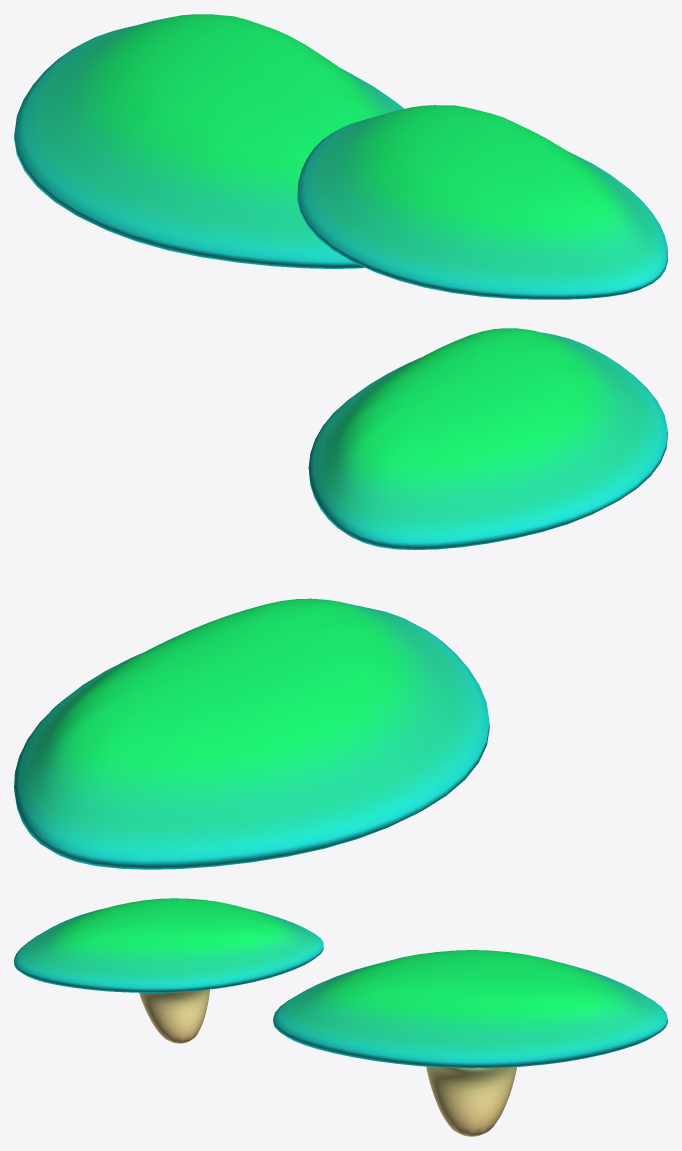
The model's file is WallMushrooms2.fbx.
3 views of the same model, one above another, from view 1: azimuth 30°, elevation 25°; view 2: azimuth 150°, elevation 25°; view 3: azimuth 270°, elevation 25° (orthographic). The views are drawn at different scales.
Parts seen in each view (by area): view 1: MushroomCap.004, MushroomCap.005; view 2: MushroomCap.004, MushroomCap.005; view 3: MushroomCap.004, MushroomCap.005, MushroomStem.004, MushroomStem.005.
Part boxes in pixels (bbox=[...]): MushroomCap.004: bbox=[14, 14, 403, 268]; MushroomCap.005: bbox=[297, 105, 667, 299]; MushroomCap.004: bbox=[14, 598, 489, 869]; MushroomCap.005: bbox=[308, 328, 667, 550]; MushroomCap.004: bbox=[273, 950, 667, 1068]; MushroomCap.005: bbox=[14, 898, 323, 992]; MushroomStem.004: bbox=[426, 1066, 516, 1136]; MushroomStem.005: bbox=[139, 989, 209, 1043].
Size of the model in its own units: 758 by 619 by 1883.
